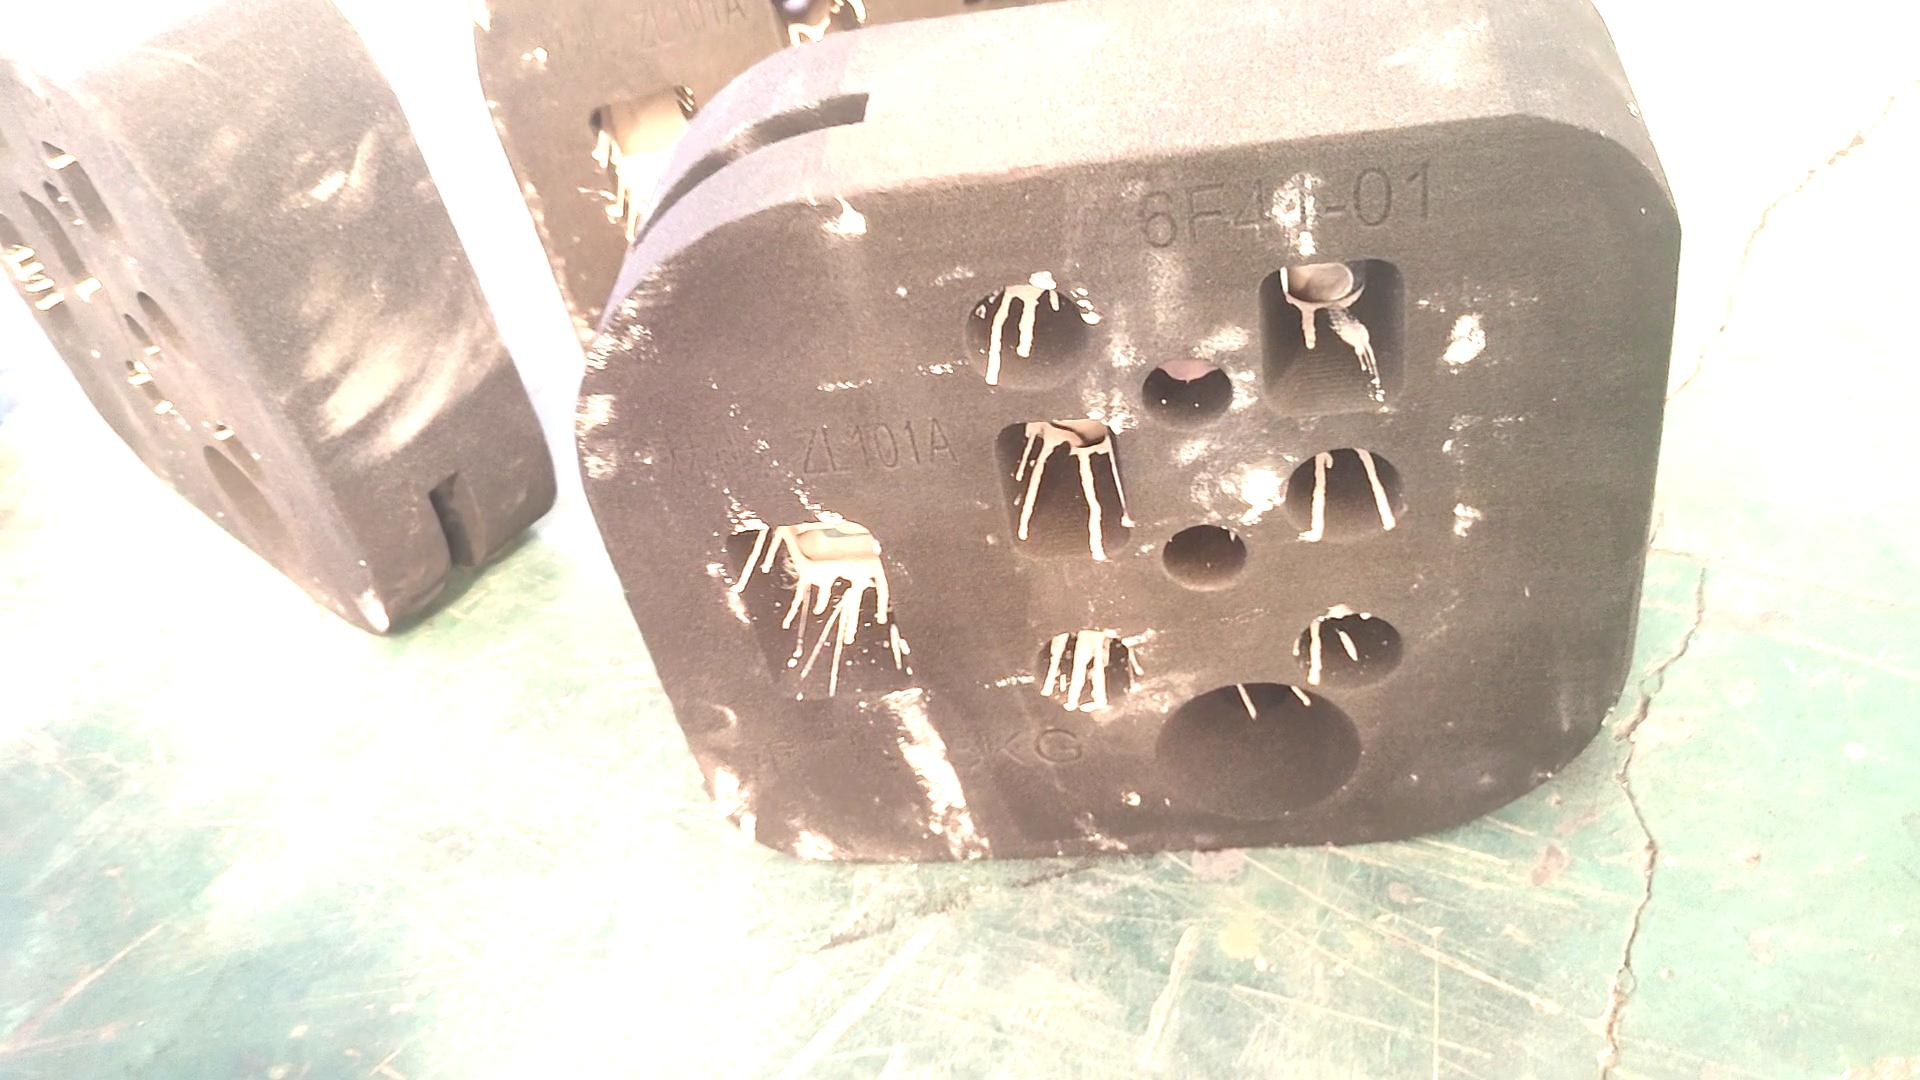pouring hole: (1158, 683, 1361, 815), (200, 447, 301, 568)
